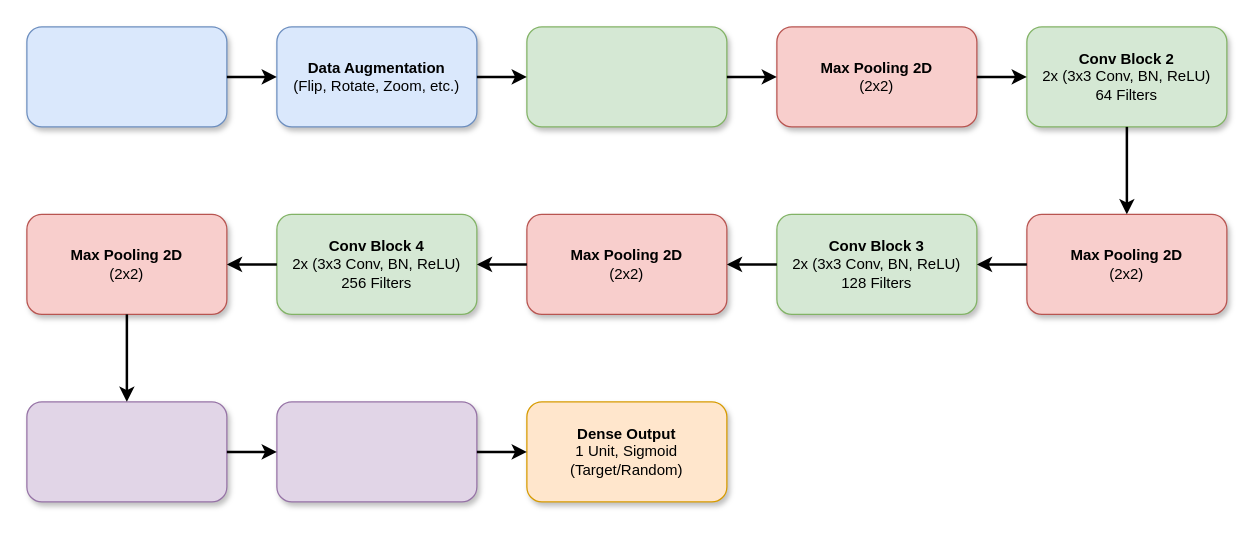
This 1256x533 diagram has some shape labels left out. Each missing label, with the centre of its shape:
Conv Block 1 2x (3x3 Conv, BN, ReLU) 32 Filters: [627,78]
Dropout (Rate: 0.5): [377,453]
Global Average Pooling (GAP): [127,453]
Input (128x128x3 RGB): [127,78]
